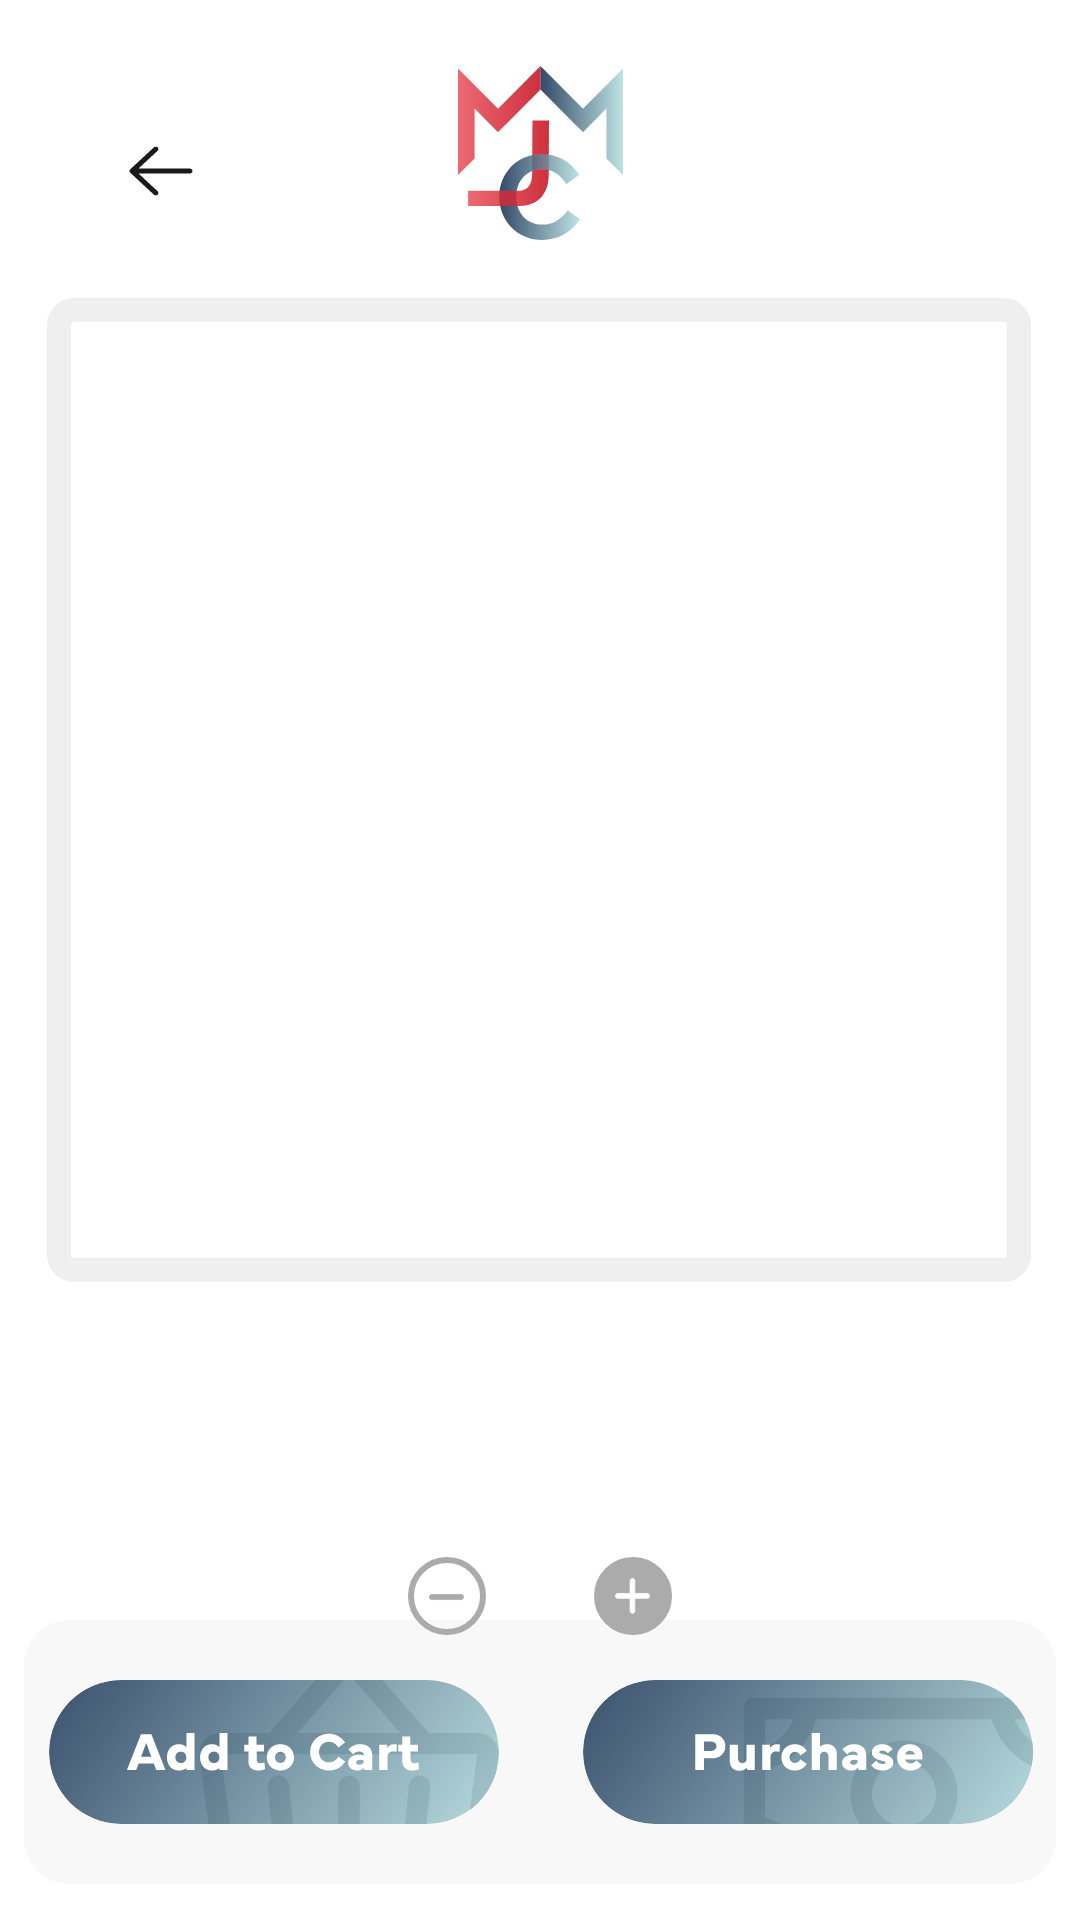

Icon click points for this 1080 × 1920 phone screenshot, format (x,y):
arrow left back: (161,171)
minus: (447,1596)
plus: (633,1596)
